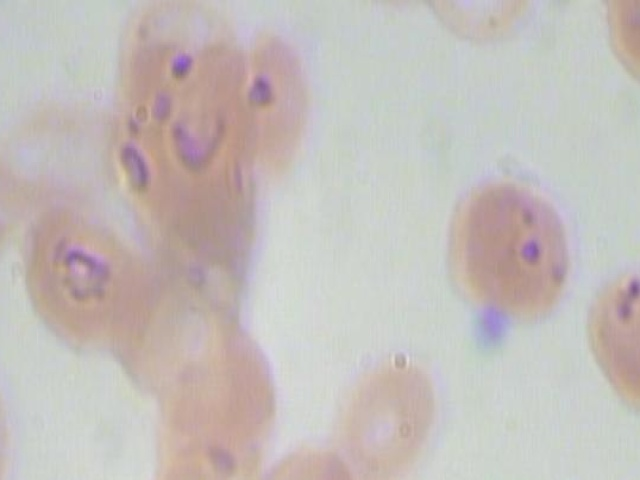Platelets: (462, 301, 512, 359)
RBC: (430, 161, 593, 331), (21, 195, 152, 354), (161, 306, 288, 446), (317, 346, 448, 480), (238, 25, 317, 178), (577, 268, 640, 421), (416, 0, 547, 46), (244, 440, 374, 480), (127, 440, 257, 480), (0, 405, 22, 480), (323, 0, 454, 7)
WBC: (0, 0, 58, 11)
